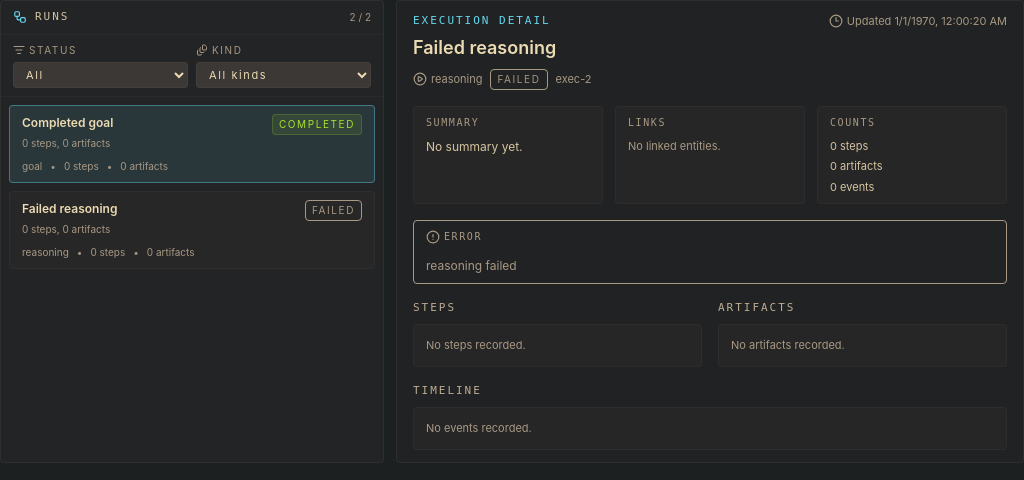
Scenario: RunsPanel › filters runs by status and updates the visible list
The width and height of the screenshot is (1024, 480).
Expected: the text "Completed goal" is shown, x1=22 y1=114 x2=113 y2=132
Expected: the text "Failed reasoning" is shown, x1=22 y1=200 x2=117 y2=218
Select "Failed" in the dropdown labelled "Status" at (100, 74), box x1=13 y1=62 x2=188 y2=88
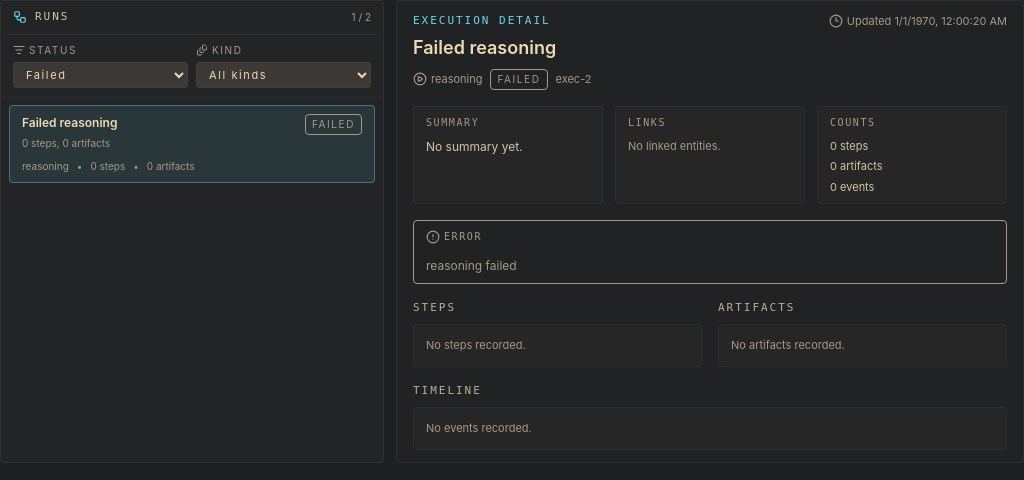
Expected: the heading "Failed reasoning" is shown, x1=413 y1=36 x2=556 y2=58
Result: the text "1 / 2" is shown at x1=352 y1=10 x2=371 y2=25
